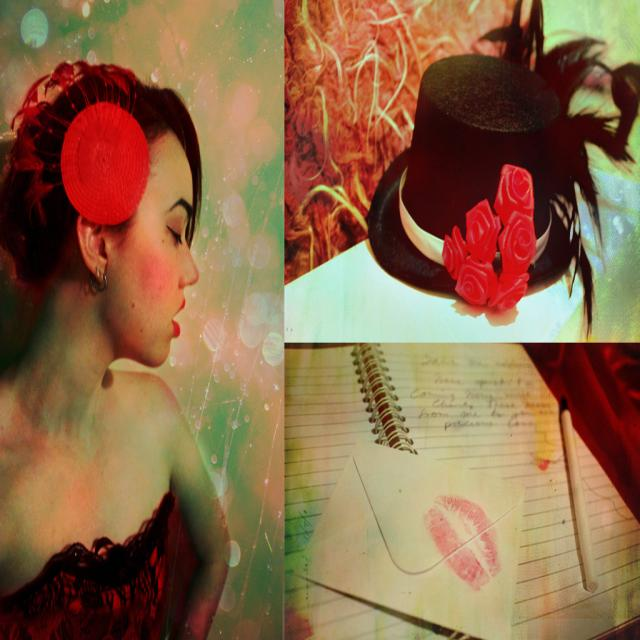Hat: (365, 0, 638, 342)
